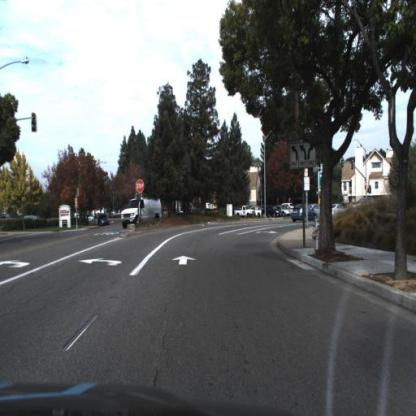car: (115, 193, 165, 232), (291, 201, 320, 229), (323, 198, 351, 224), (290, 201, 314, 224), (232, 202, 257, 222), (258, 203, 284, 221), (96, 214, 110, 231)
